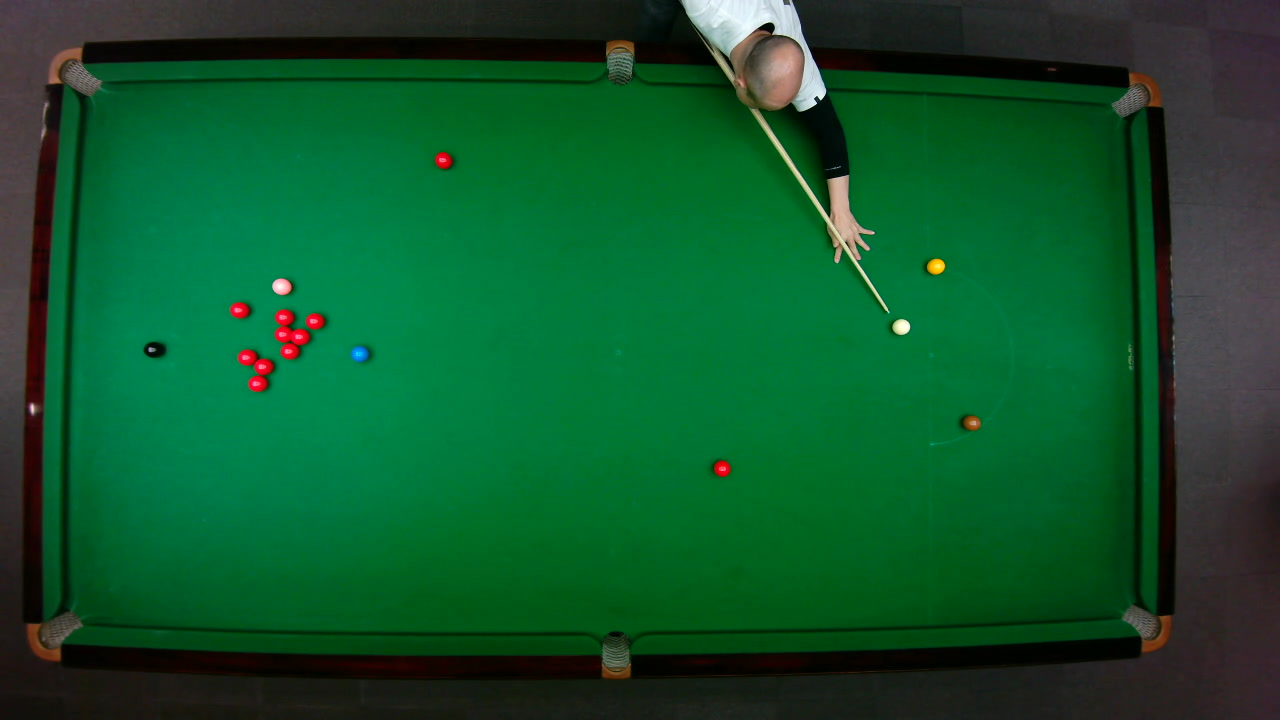bag: (25, 609, 83, 661), (46, 46, 101, 96), (1119, 603, 1172, 652), (1108, 71, 1161, 118), (600, 629, 630, 680), (605, 38, 633, 85)
black: (142, 340, 164, 358)
blue: (349, 344, 369, 362)
brown: (961, 414, 981, 430)
cue: (742, 97, 890, 312)
pink: (270, 276, 292, 295)
red: (287, 326, 310, 345), (235, 347, 257, 366), (252, 356, 274, 375), (228, 300, 250, 318), (246, 374, 268, 392), (433, 150, 453, 169), (303, 311, 324, 329), (273, 307, 294, 325), (712, 458, 731, 477), (272, 325, 293, 342), (279, 342, 299, 359)
white: (890, 317, 911, 335)
yellow: (925, 256, 946, 274)
zone: (926, 263, 1013, 443)
